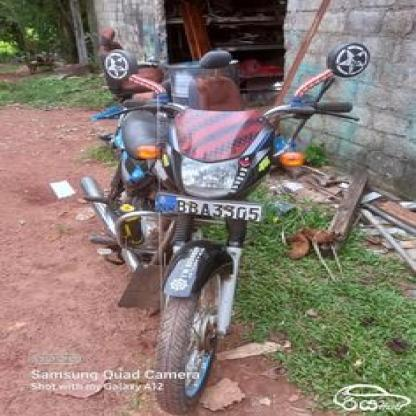bike front: (58, 37, 382, 409)
number plate: (172, 196, 268, 223)
